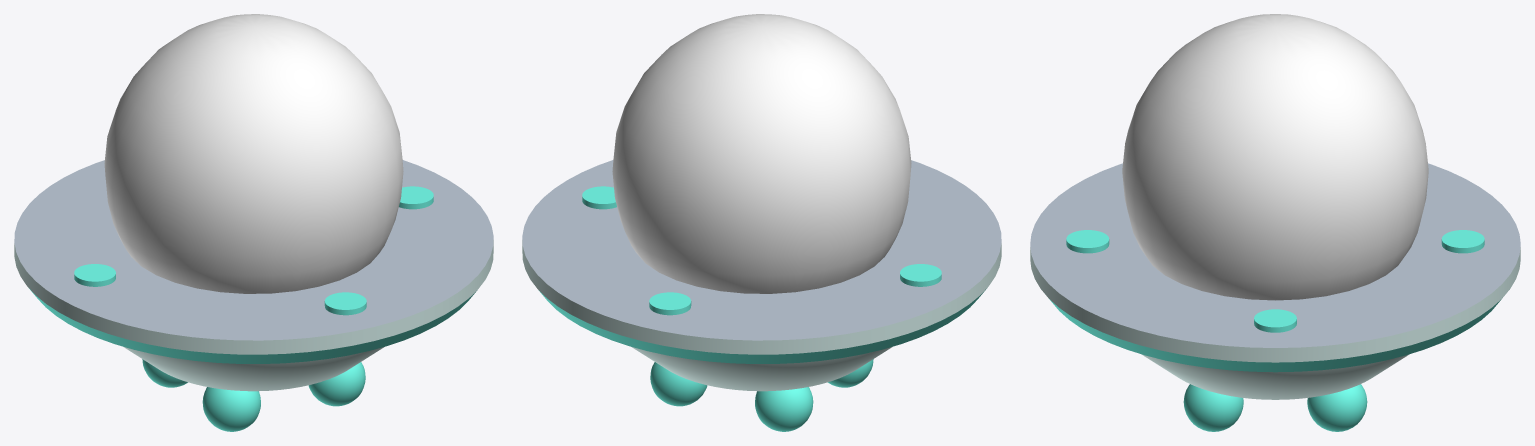
Rendered from ufo.glb.
The picture shows the model from 3 angles, left to right: view 1: azimuth 30°, elevation 25°; view 2: azimuth 150°, elevation 25°; view 3: azimuth 270°, elevation 25°; orthographic projection. The views are drawn at different scales.
Parts seen in each view (by area): view 1: Sphere.003, Circle, Roundcube, Circle.002, Circle.001; view 2: Sphere.003, Circle, Roundcube, Circle.002, Circle.001; view 3: Sphere.003, Circle, Roundcube, Circle.001, Circle.002.
Boxes of the visible parts, box(x1,y1,x2,y2) form: Sphere.003: box(104, 14, 403, 293); Circle: box(14, 160, 493, 391); Roundcube: box(142, 359, 365, 431); Circle.002: box(74, 186, 433, 286); Circle.001: box(324, 292, 366, 315); Sphere.003: box(612, 14, 911, 293); Circle: box(522, 160, 1001, 391); Roundcube: box(650, 359, 873, 431); Circle.002: box(582, 186, 941, 286); Circle.001: box(649, 292, 691, 315); Sphere.003: box(1122, 14, 1428, 300); Circle: box(1030, 163, 1520, 399); Roundcube: box(1183, 384, 1367, 431); Circle.001: box(1066, 230, 1484, 253); Circle.002: box(1254, 309, 1296, 332).
Size of the model in its own units: 3.57 by 3.02 by 3.57.
